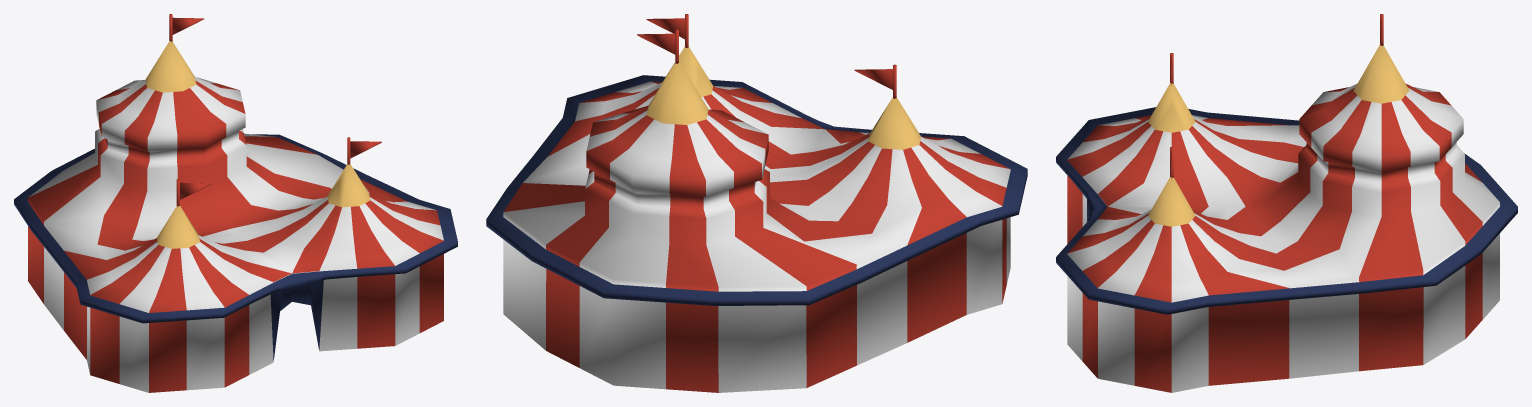
The model's file is circus tent.fbx.
3 views of the same model, side by side, from view 1: azimuth 30°, elevation 25°; view 2: azimuth 150°, elevation 25°; view 3: azimuth 270°, elevation 25° (orthographic). The views are drawn at different scales.
Parts seen in each view (by area): view 1: Plane.001, Cylinder; view 2: Plane.001, Cylinder; view 3: Plane.001.
Boxes of the visible parts, x1,y1,x2,y2 form: Plane.001: [14, 41, 457, 392]; Cylinder: [169, 14, 381, 206]; Plane.001: [486, 46, 1027, 392]; Cylinder: [637, 14, 896, 98]; Plane.001: [1056, 45, 1517, 392].
Size of the model in its own units: 5601 by 3659 by 5357.
